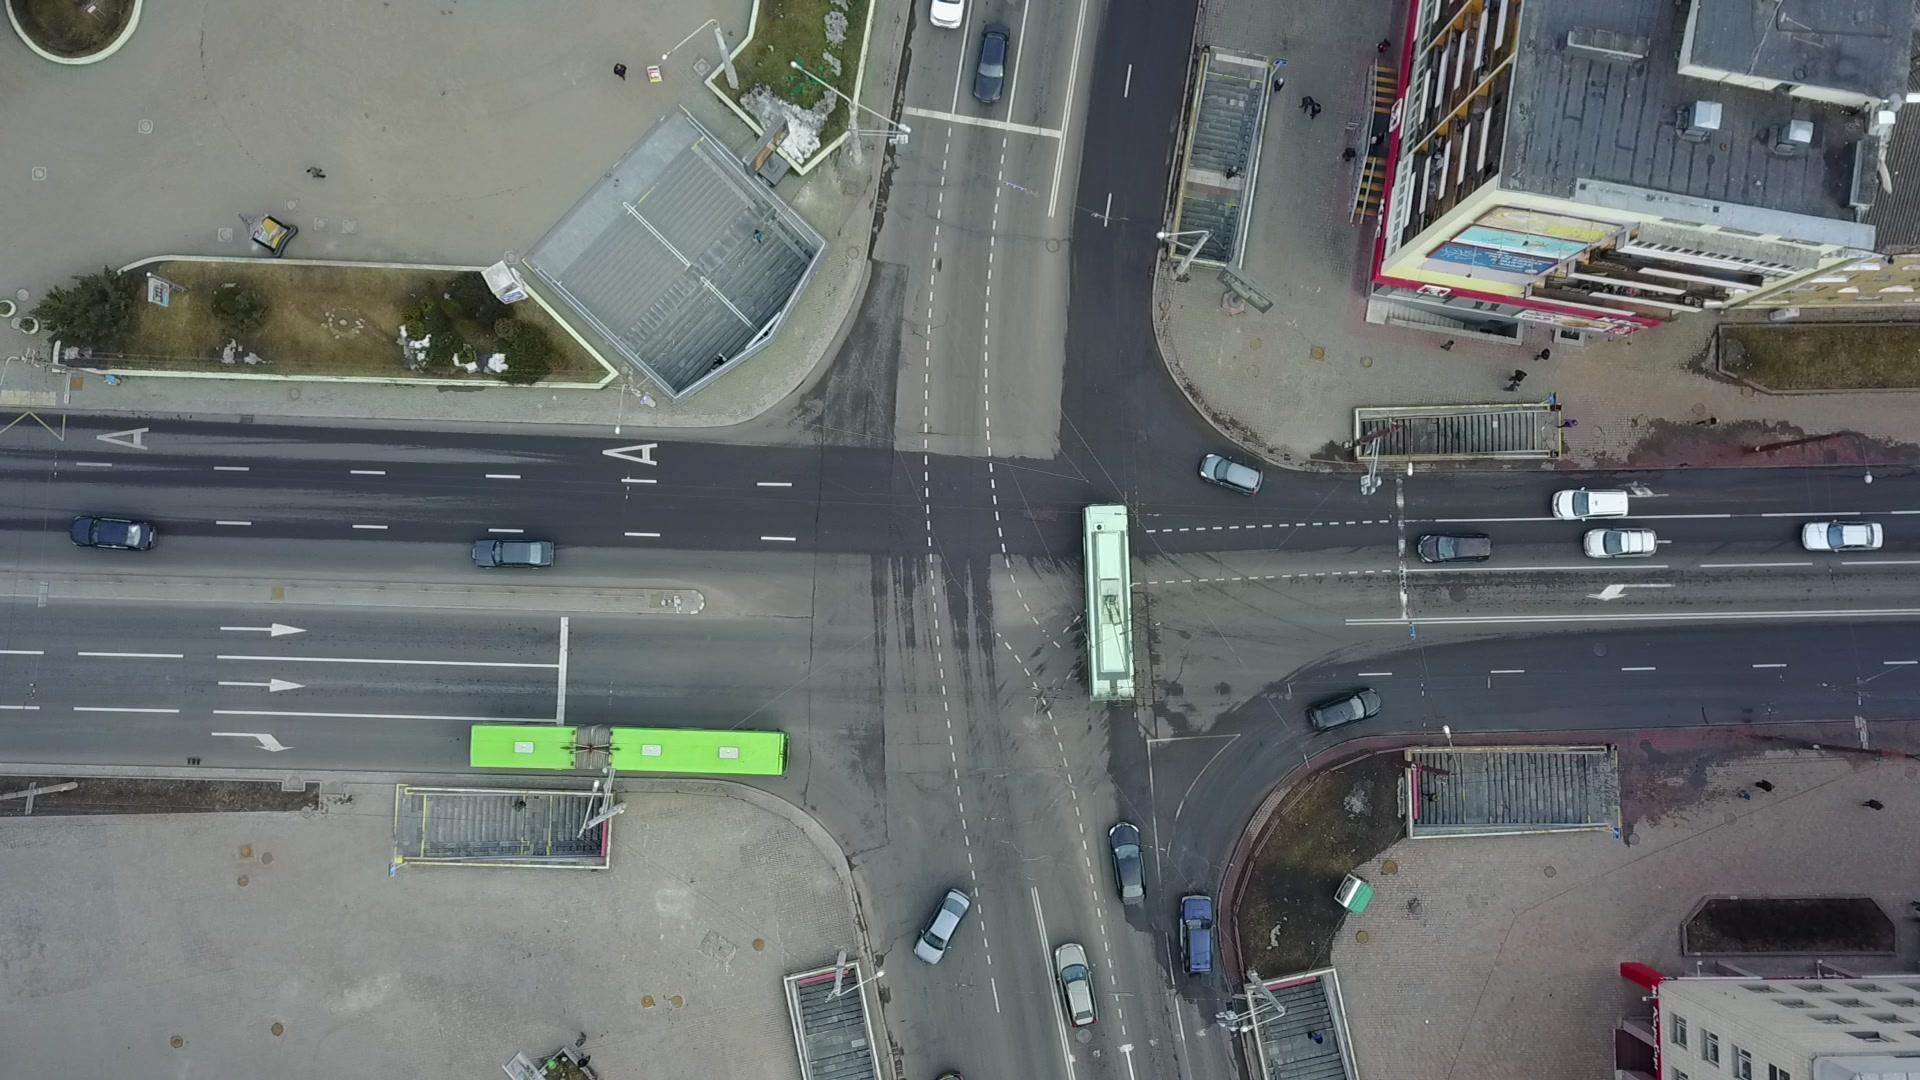car: (913, 885, 972, 967), (1052, 942, 1100, 1029), (1305, 684, 1382, 733), (1105, 822, 1149, 907), (971, 16, 1011, 105), (1176, 891, 1218, 977), (67, 514, 160, 553), (1196, 451, 1265, 496), (469, 537, 556, 570), (1803, 518, 1884, 553), (1414, 529, 1491, 564), (1582, 525, 1659, 559), (1551, 487, 1629, 518)
